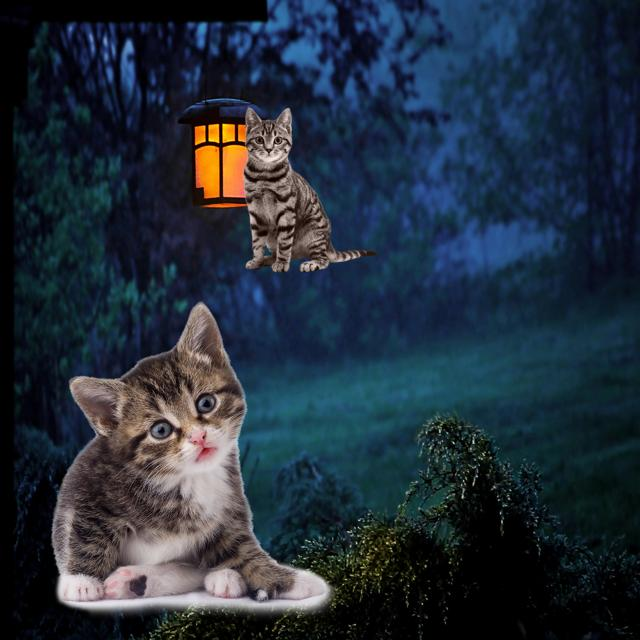cat: (48, 297, 343, 623), (244, 108, 376, 272)
